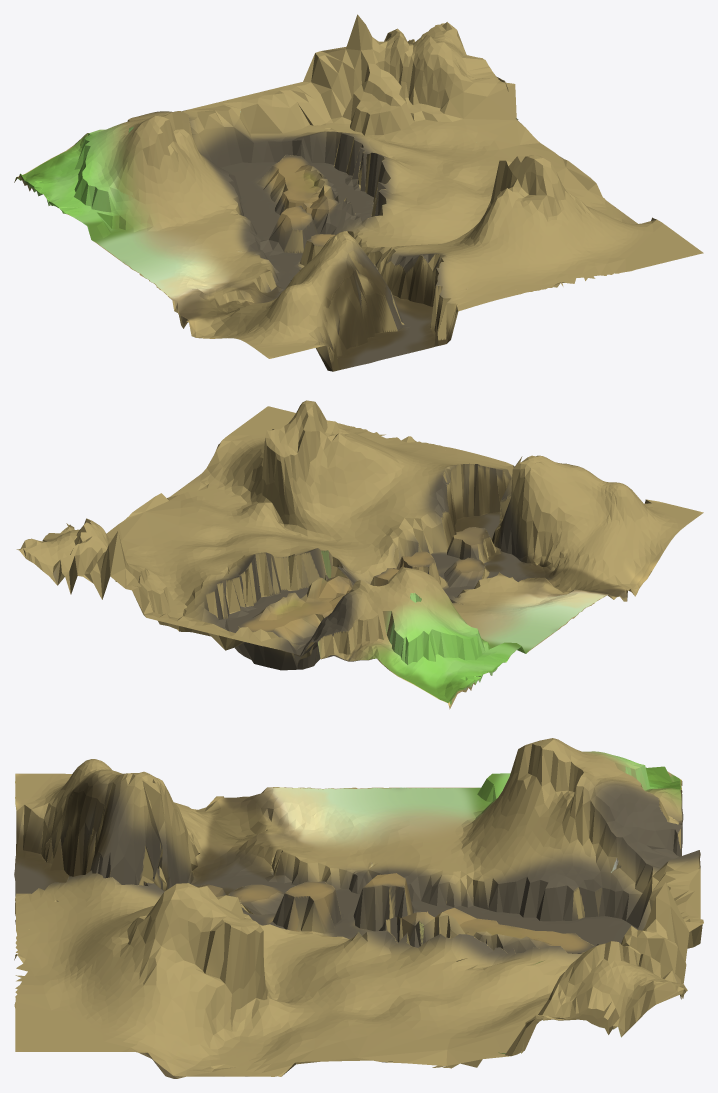
The model's file is TerrainA4.fbx.
The picture shows the model from 3 angles, top to bottom: view 1: azimuth 30°, elevation 25°; view 2: azimuth 150°, elevation 25°; view 3: azimuth 270°, elevation 25°; orthographic projection. The views are drawn at different scales.
Visible parts, largest first — view 1: Terrain1.002; view 2: Terrain1.002; view 3: Terrain1.002.
Boxes of the visible parts, x1,y1,x2,y2 form: Terrain1.002: [14, 14, 703, 371]; Terrain1.002: [16, 400, 703, 709]; Terrain1.002: [14, 738, 703, 1078].
Bounding box in the file's own units: 20535 × 5014 × 20984.
Materials: 1 (1 with a texture image).
